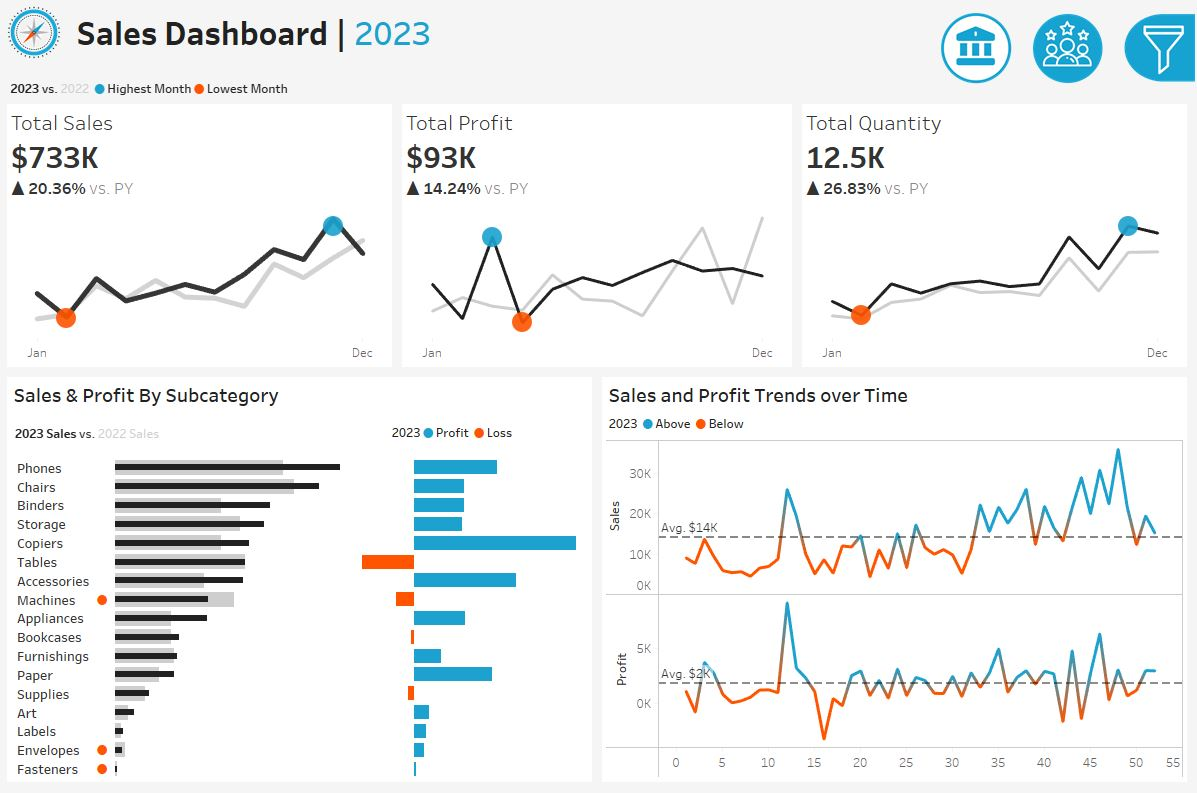

Layout of this report page (visuals, bound fields, positions):
{"tool":"tableau","page":{"name":"Sales Dashboard","canvas":[1200,800],"ordinal":1},"visuals":[{"type":"image","param":"C:/Users/Arash/Desktop/Tableau Customer Project/Icons/Icon - Logo.png","box":[0,0,73,80]},{"type":"text","box":[73,0,850,80]},{"type":"blank","box":[945,10,242,100]},{"type":"dashboard-object","box":[934,16,91,80]},{"type":"dashboard-object","box":[1025,16,91,80]},{"type":"worksheet","title":"Legend of KPI","mark":"Automatic","box":[0,80,1200,32]},{"type":"text","box":[945,110,242,34]},{"type":"worksheet","title":"KPI Sales","mark":"Automatic","rows":["Calculation_499618139379392523"],"cols":["Order Date"],"box":[0,112,400,268]},{"type":"worksheet","title":"KPI Profit","mark":"Automatic","rows":["Calculation_499618139415158802"],"cols":["Order Date"],"box":[400,112,400,268]},{"type":"worksheet","title":"KPI Quantity","mark":"Automatic","rows":["Calculation_499618139415379987"],"cols":["Order Date"],"box":[800,112,400,268]},{"type":"parameter","param":"[Parameters].[Parameter 1]","box":[945,144,242,52]},{"type":"text","box":[945,196,242,29]},{"type":"filter","title":"KPI Profit","param":"[federated.1xpg50w17ir8bn1eb916w015djlw].[none:Category:nk]","box":[945,225,242,52]},{"type":"filter","title":"KPI Profit","param":"[federated.1xpg50w17ir8bn1eb916w015djlw].[none:Sub-Category:nk]","box":[945,277,242,52]},{"type":"blank","box":[945,329,242,48]},{"type":"text","box":[945,377,242,29]},{"type":"text","box":[10,385,585,34]},{"type":"text","box":[605,385,585,34]},{"type":"filter","title":"KPI Profit","param":"[federated.1xpg50w17ir8bn1eb916w015djlw].[none:Region:nk]","box":[945,406,242,52]},{"type":"worksheet","title":"Legend Subcategory Chart","mark":"Automatic","box":[10,419,378,43]},{"type":"text","box":[388,419,207,43]},{"type":"text","box":[605,419,585,25]},{"type":"worksheet","title":"Weekly Trends","mark":"Automatic","rows":["Calculation_499618139372310530","Calculation_499618139372613636"],"cols":["Order Date"],"box":[605,444,585,346]},{"type":"filter","title":"KPI Profit","param":"[federated.1xpg50w17ir8bn1eb916w015djlw].[none:State:nk]","box":[945,458,242,52]},{"type":"worksheet","title":"Subcategory Comparison","mark":"Bar","rows":["Sub-Category","Calculation_499618139434643478"],"cols":["Calculation_499618139372548099","Calculation_499618139372310530","Calculation_499618139372613636"],"box":[10,462,585,327.9]},{"type":"filter","title":"KPI Profit","param":"[federated.1xpg50w17ir8bn1eb916w015djlw].[none:City:nk]","box":[945,510,242,52]}]}

Visuals, with their boxes in screenshot pixels (x1, y1, x2, y2), scaled from the page's 1200x800 canvas onto the 1197x793 screenshot:
image: bbox(0, 0, 73, 79)
text: bbox(73, 0, 921, 79)
blank: bbox(943, 10, 1184, 109)
dashboard-object: bbox(932, 16, 1022, 95)
dashboard-object: bbox(1022, 16, 1113, 95)
"Legend of KPI" worksheet: bbox(0, 79, 1196, 111)
text: bbox(943, 109, 1184, 143)
"KPI Sales" worksheet: bbox(0, 111, 399, 377)
"KPI Profit" worksheet: bbox(399, 111, 798, 377)
"KPI Quantity" worksheet: bbox(798, 111, 1196, 377)
parameter: bbox(943, 143, 1184, 194)
text: bbox(943, 194, 1184, 223)
"KPI Profit" filter: bbox(943, 223, 1184, 275)
"KPI Profit" filter: bbox(943, 275, 1184, 326)
blank: bbox(943, 326, 1184, 374)
text: bbox(943, 374, 1184, 402)
text: bbox(10, 382, 594, 415)
text: bbox(603, 382, 1187, 415)
"KPI Profit" filter: bbox(943, 402, 1184, 454)
"Legend Subcategory Chart" worksheet: bbox(10, 415, 387, 458)
text: bbox(387, 415, 594, 458)
text: bbox(603, 415, 1187, 440)
"Weekly Trends" worksheet: bbox(603, 440, 1187, 783)
"KPI Profit" filter: bbox(943, 454, 1184, 506)
"Subcategory Comparison" worksheet (Bar marks): bbox(10, 458, 594, 783)
"KPI Profit" filter: bbox(943, 506, 1184, 557)
